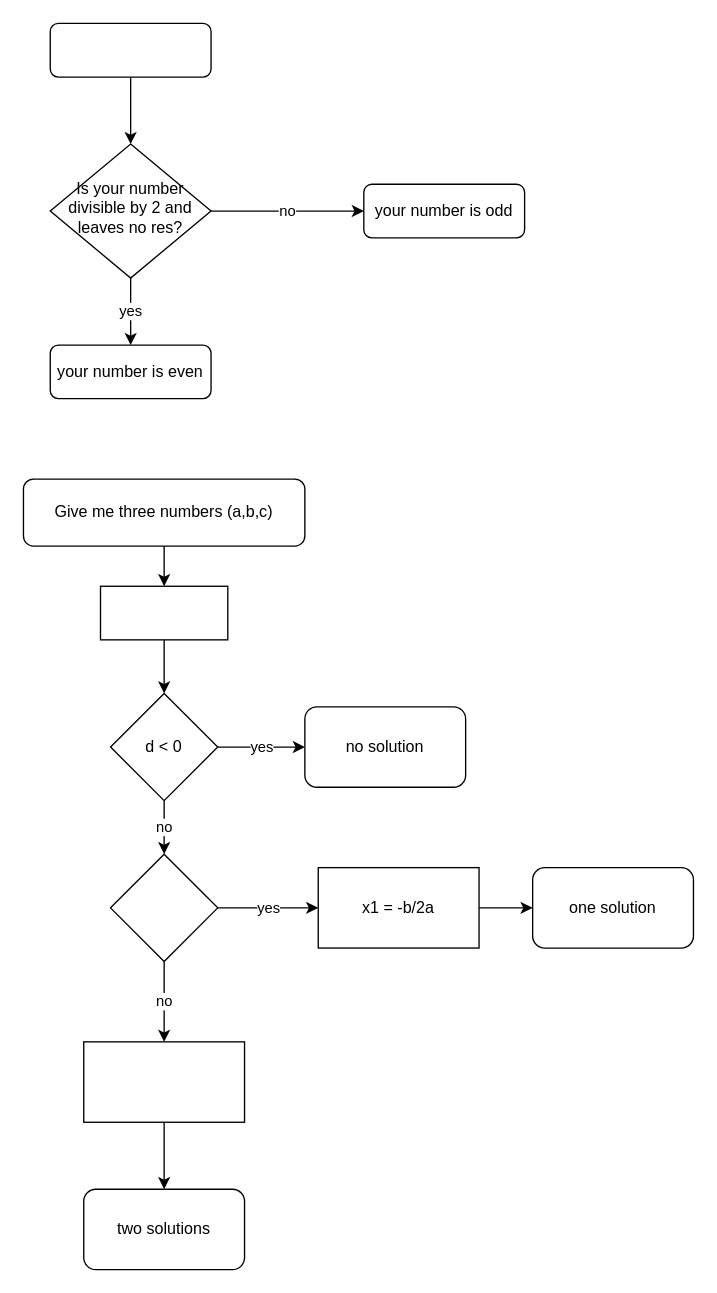
Image size: 717x1293. Some labels were removed from this diagram. Each missing label, with the centre of its shape:
d = 0: [163,907]
d = b^2 - 4ac: [163,612]
Give me a positive number: [130,49]
x1 = -b + √d x2 = -b - √d: [163,1081]
